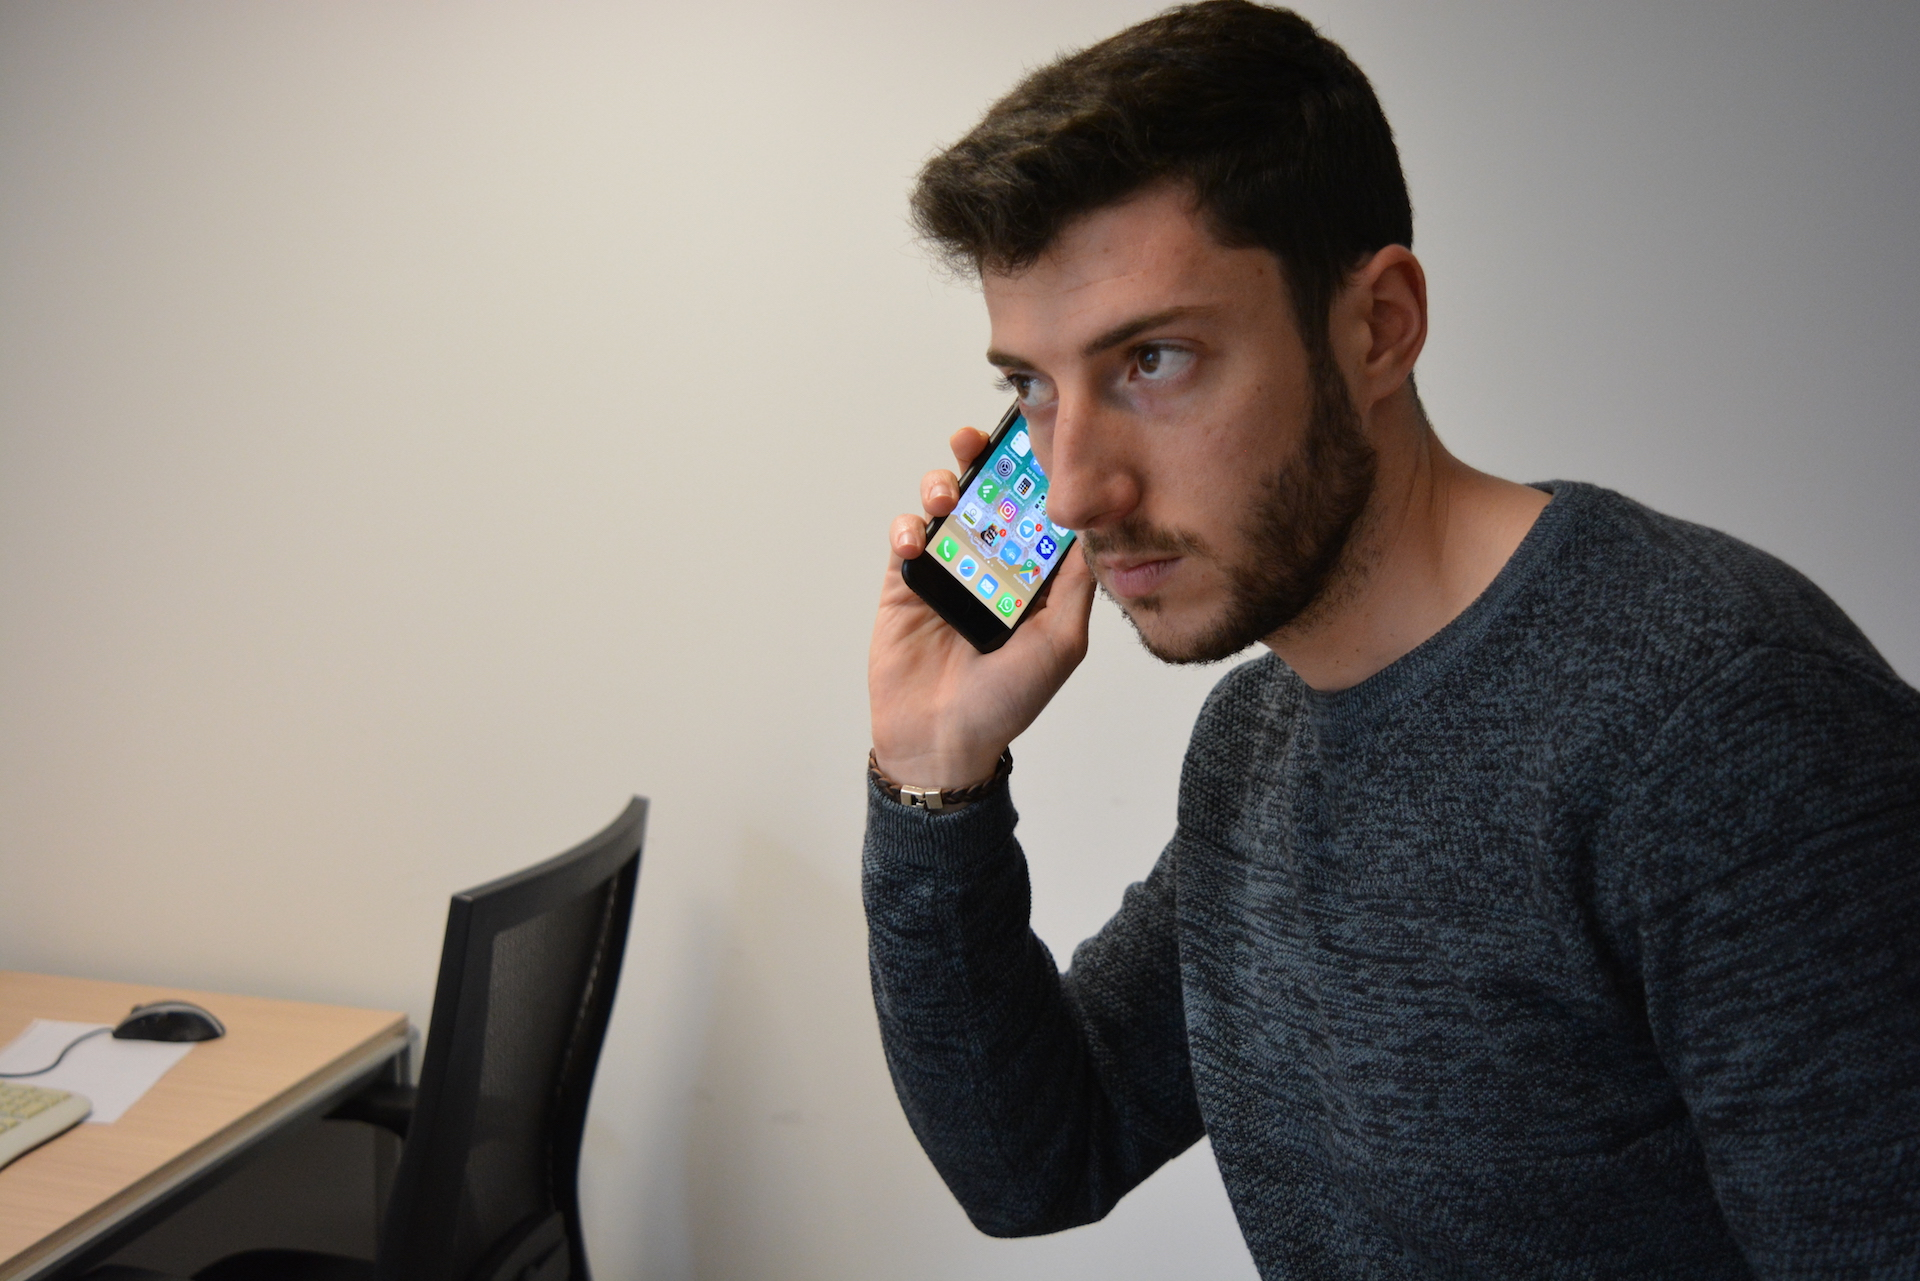smartphone: (899, 390, 1079, 658)
